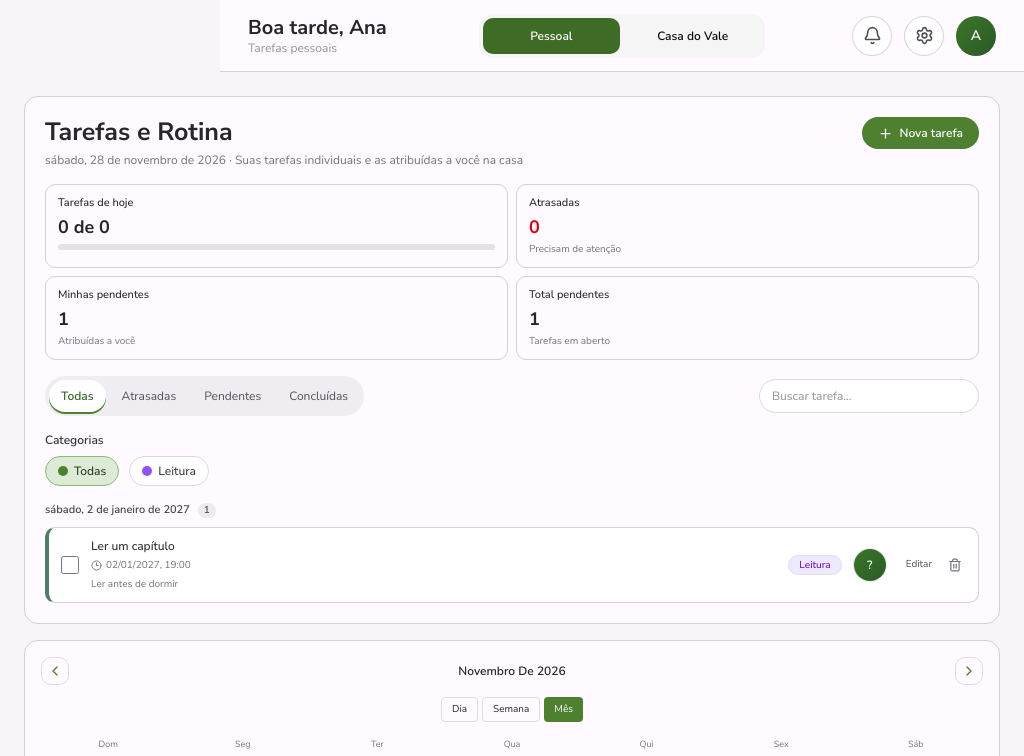
TasksPage › opens the personal context directly and keeps other residents' tasks in the house list
Expected: the heading "Ler um capítulo" is shown, [91,538,175,554]
Click the button "Casa do Vale": (693, 36) [624,18,761,54]
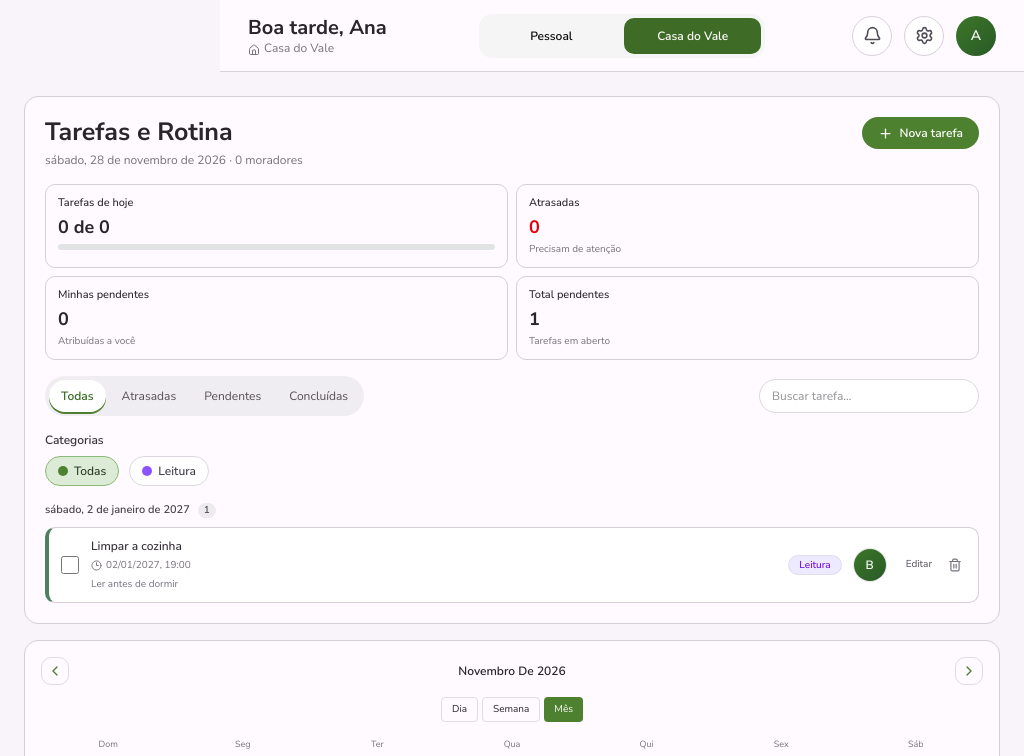
Expected: the heading "Limpar a cozinha" is shown, [91,538,182,554]
Expected: the heading "Ler um capítulo" is gone
Click the button "Pessoal": (551, 36) [483,18,620,54]
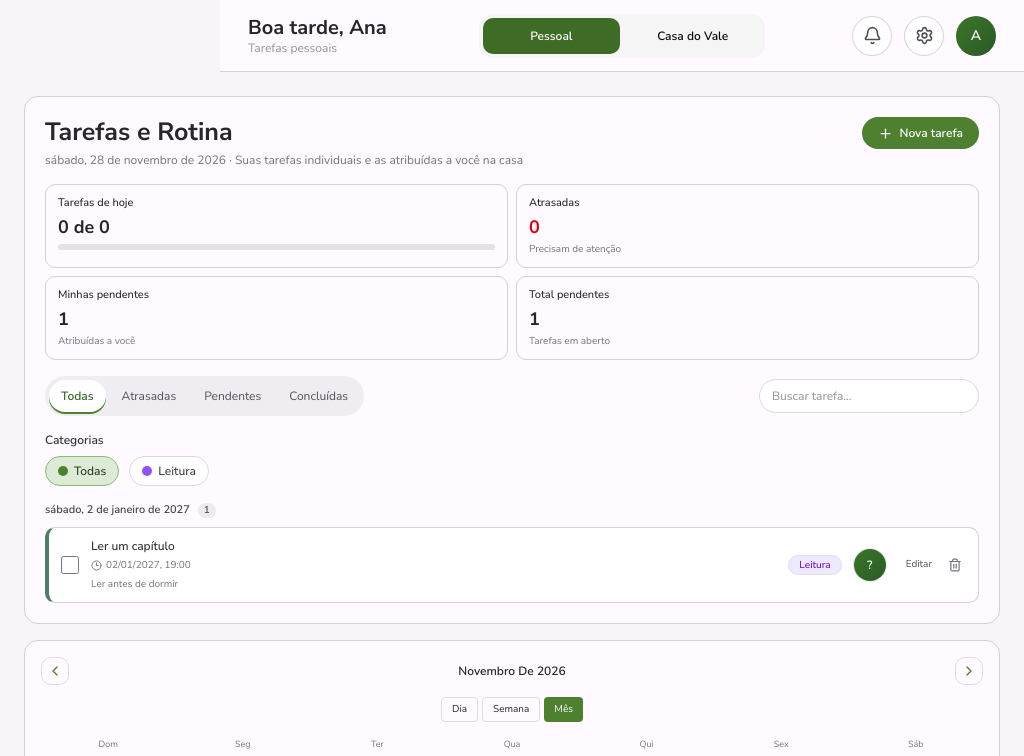
Expected: the heading "Ler um capítulo" is shown, [91,538,175,554]
Expected: the heading "Limpar a cozinha" is gone
